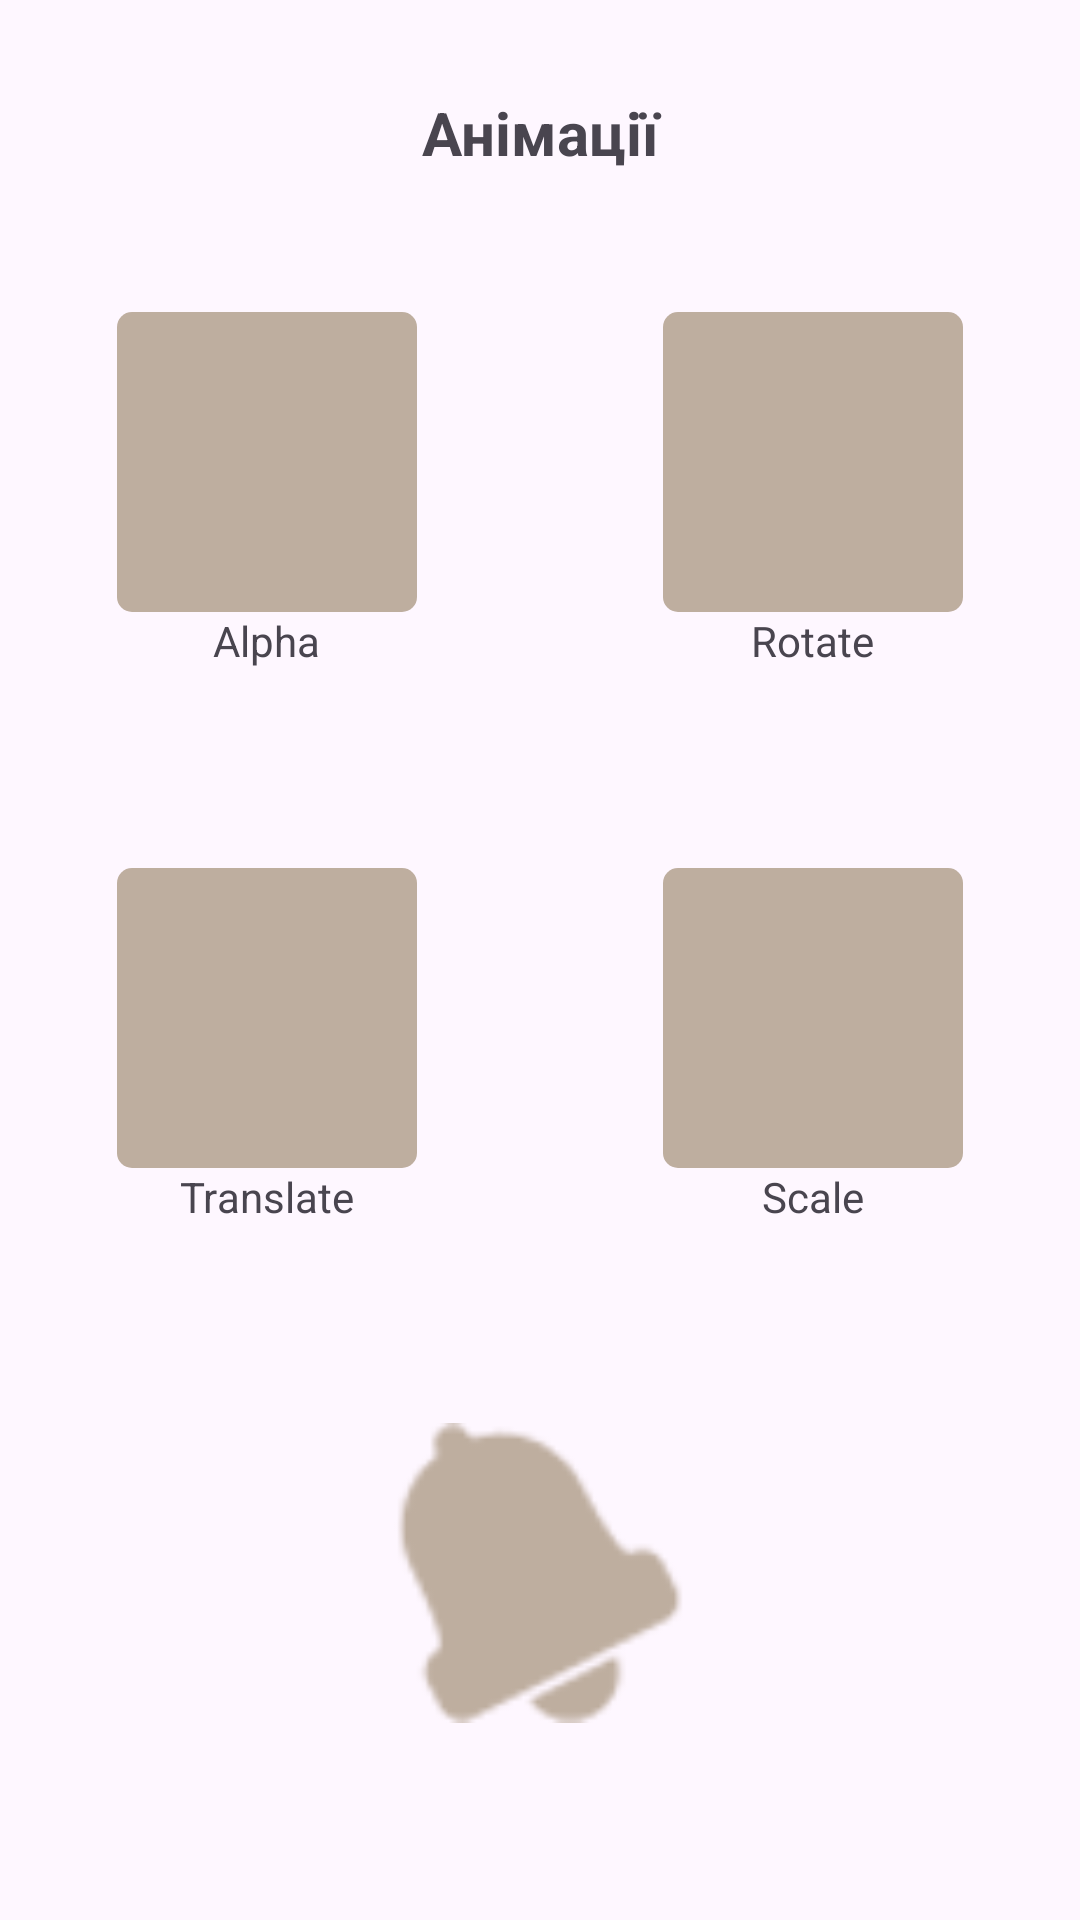

Where icons sit on this 1080x1920 app screen, as (x1, y1, x2, y2):
popup reminder: (400, 1423, 680, 1723)
